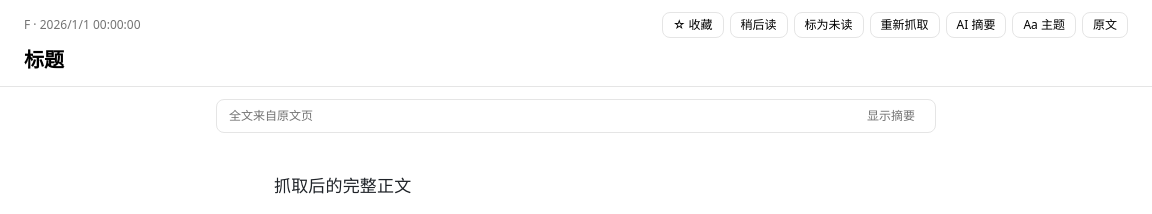
ReaderPane 全文 UI › 已有全文:默认显示全文+来源条,切「显示摘要」回摘要
The image size is (1152, 214).
Expected: the element showing "全文来自原文页 显示摘要" is shown, x1=216 y1=98 x2=936 y2=132
Click the button "显示摘要" at (891, 116), box x1=859 y1=106 x2=923 y2=126
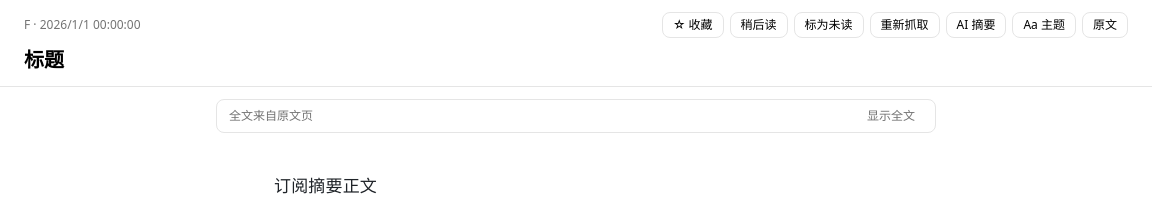
Expected: the text "订阅摘要正文" is shown, x1=274 y1=174 x2=377 y2=197
Expected: the text "抓取后的完整正文" is gone
